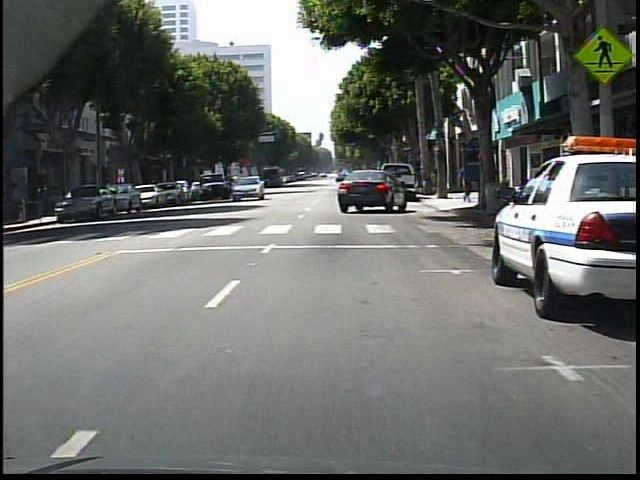person: (455, 160, 478, 209)
